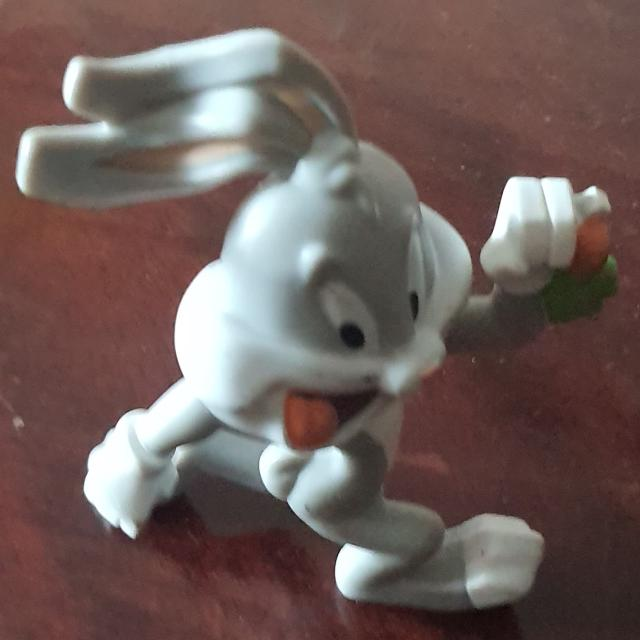Rabbit: (14, 26, 618, 612)
